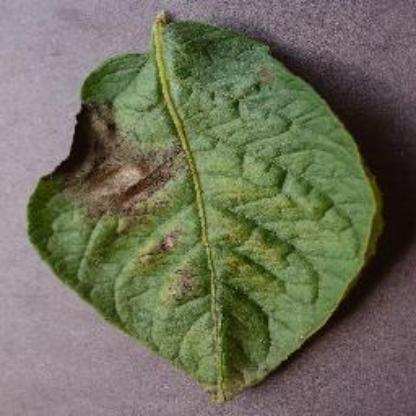Late-Blight: (36, 27, 404, 396)
